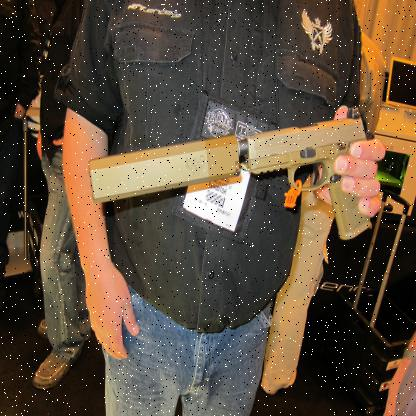pistol: (238, 96, 379, 246)
